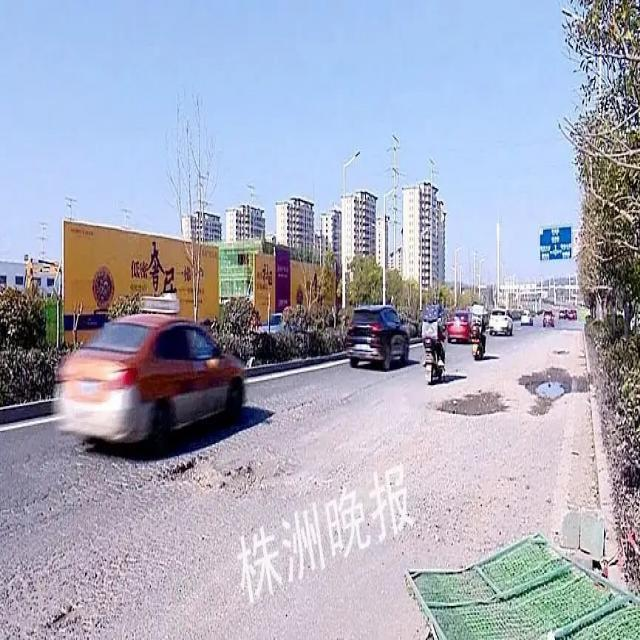pothole: (447, 389, 504, 422), (523, 375, 578, 409)
